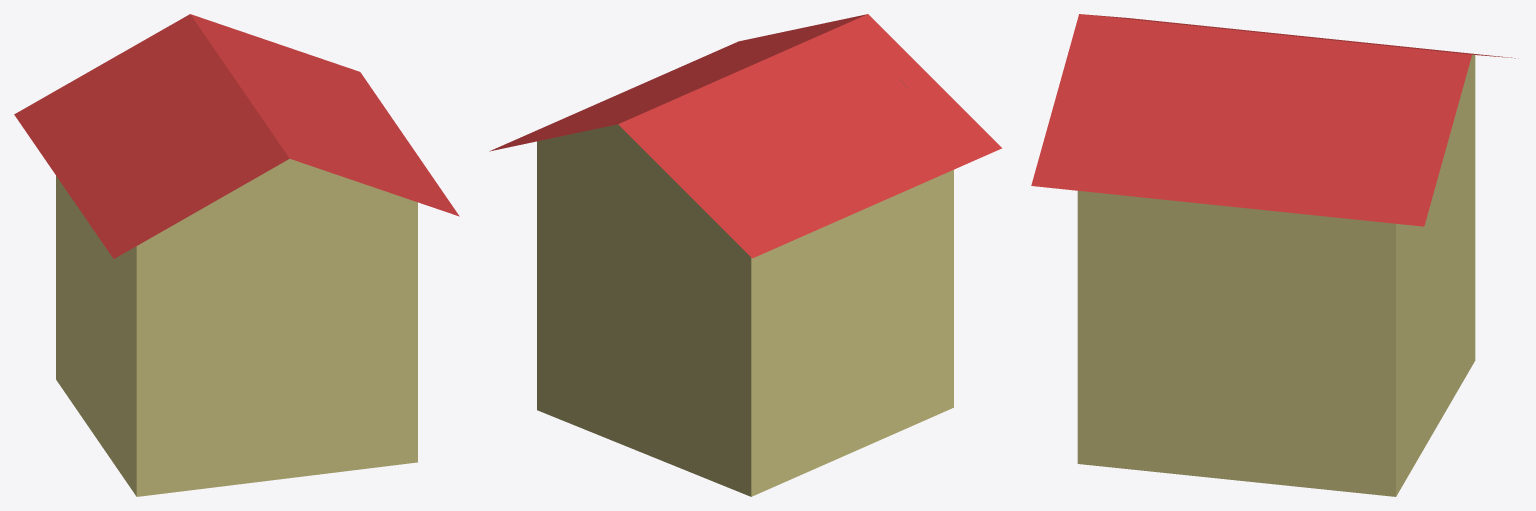
3 views of the same model, side by side, from view 1: azimuth 30°, elevation 25°; view 2: azimuth 150°, elevation 25°; view 3: azimuth 270°, elevation 25° (orthographic). The views are drawn at different scales.
Parts seen in each view (by area): view 1: group_5, group_3, group_4; view 2: group_5, group_3, group_4; view 3: group_5, group_3, group_4.
Boxes of the visible parts, x1,y1,x2,y2 form: group_5: [56, 159, 417, 496]; group_3: [14, 14, 459, 226]; group_4: [14, 14, 458, 258]; group_5: [537, 79, 953, 496]; group_3: [538, 14, 953, 258]; group_4: [489, 14, 1001, 257]; group_5: [1077, 54, 1475, 496]; group_3: [1031, 14, 1518, 226]; group_4: [1033, 14, 1471, 226].
Bounding box in the file's own units: 12.83 × 12.74 × 10.87.
